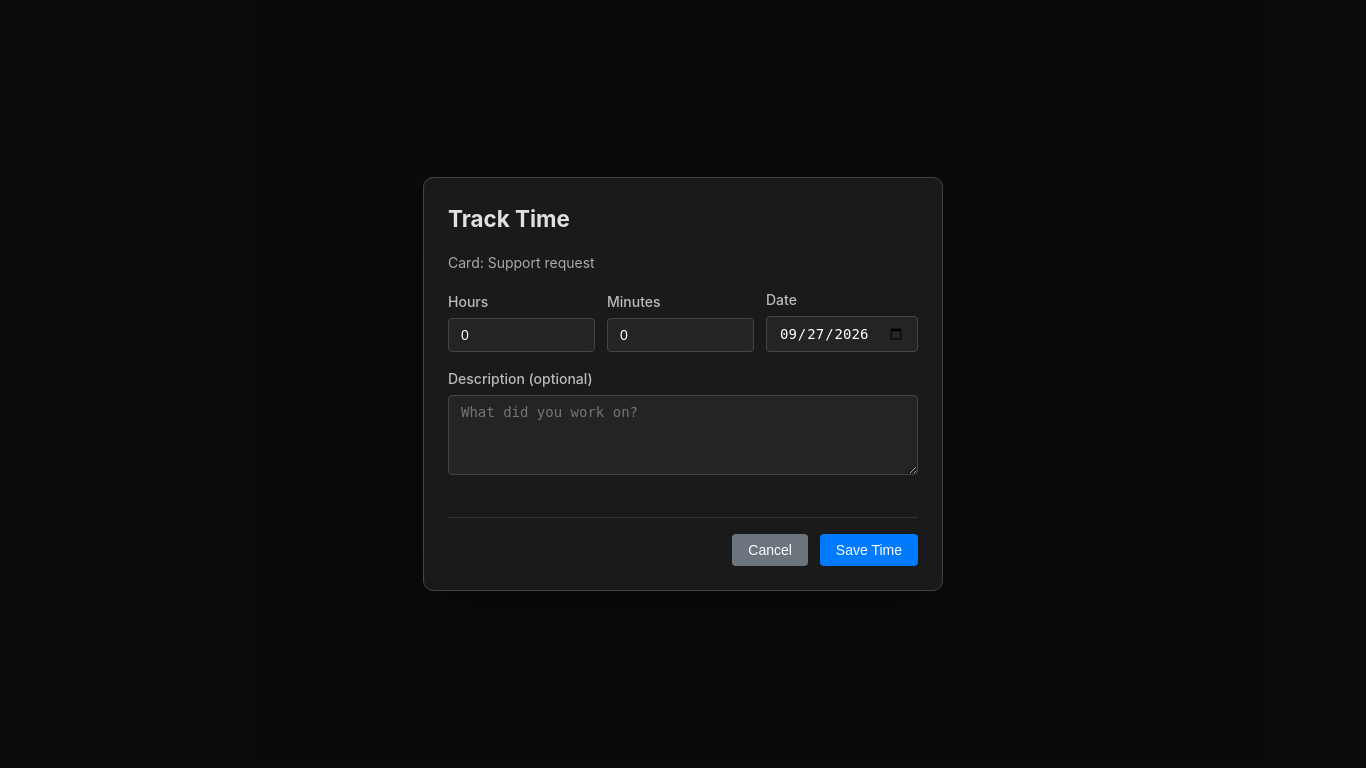
Scenario: TimeInput › requires some time to be entered
The width and height of the screenshot is (1366, 768).
Click the button "Save Time": (869, 550) [820,534,918,566]
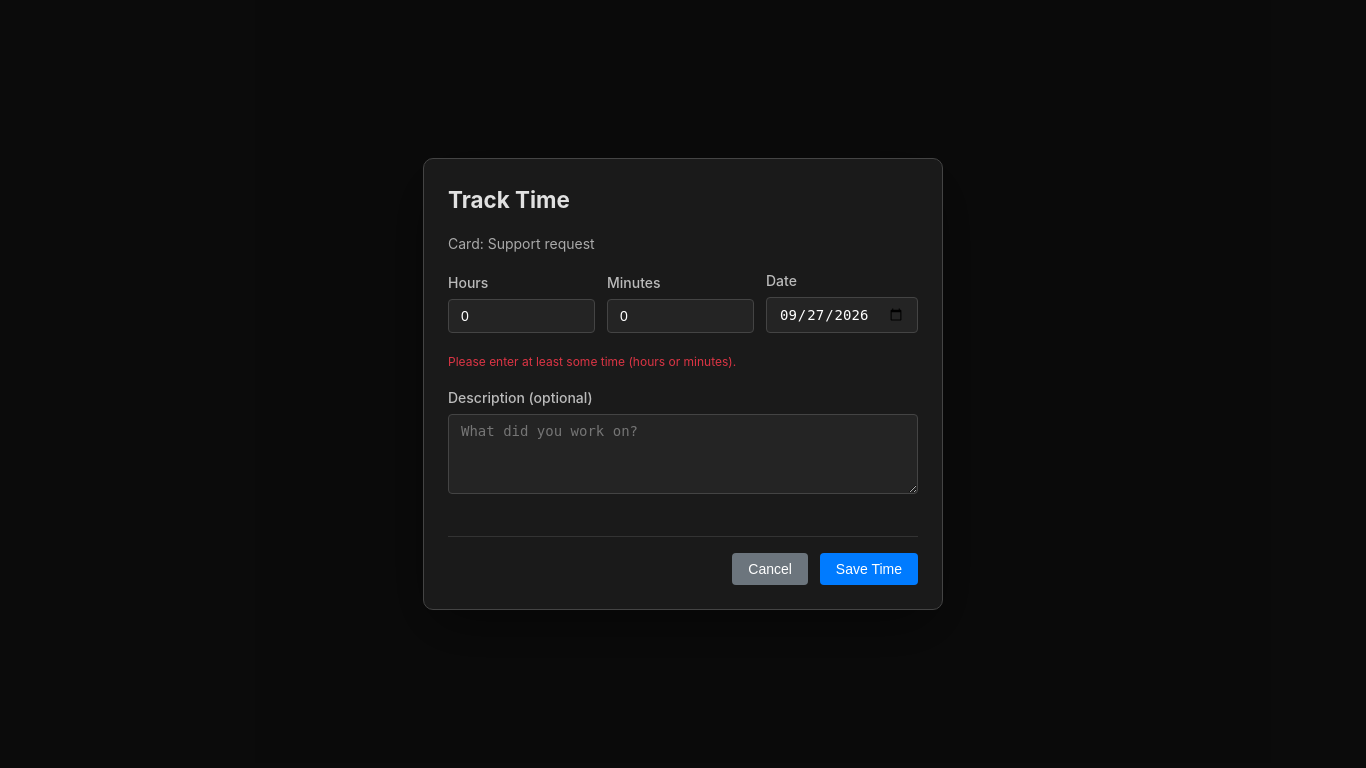
Result: the text "Please enter at least some time (hours or minutes)." is shown at [448,354,736,369]
